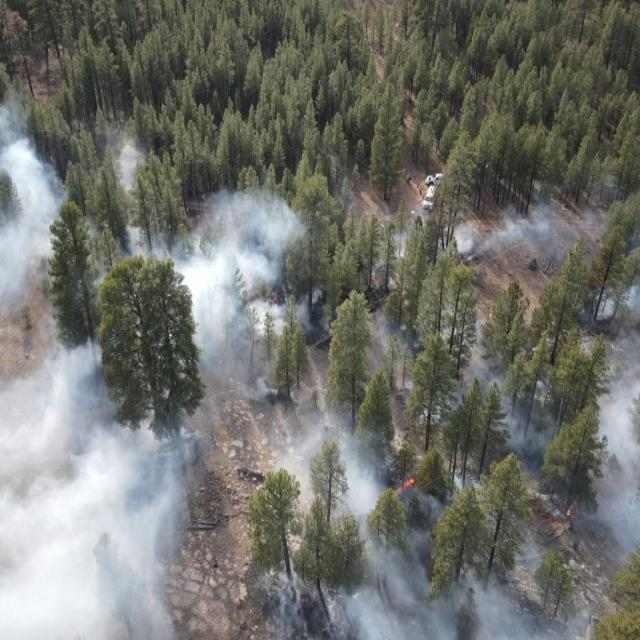fire: (388, 462, 422, 507), (560, 497, 580, 527), (266, 291, 282, 309)
smoke: (0, 174, 640, 640), (0, 80, 160, 176)
